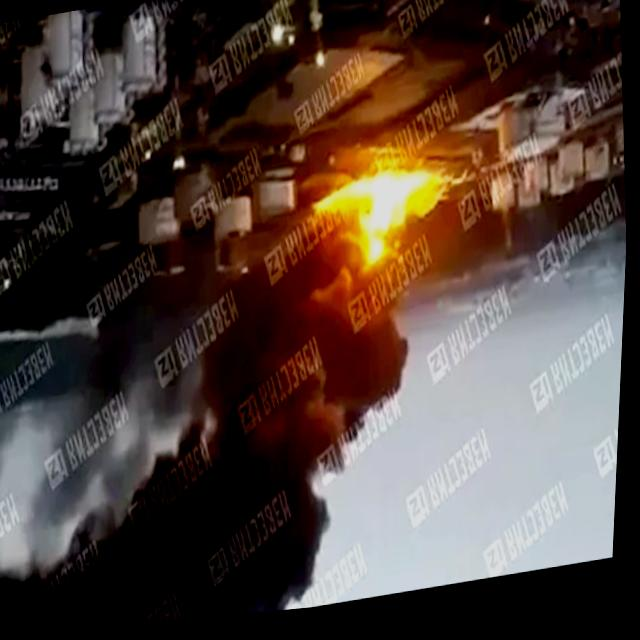helmet: (312, 155, 458, 289)
no_helmet: (0, 210, 434, 640)
